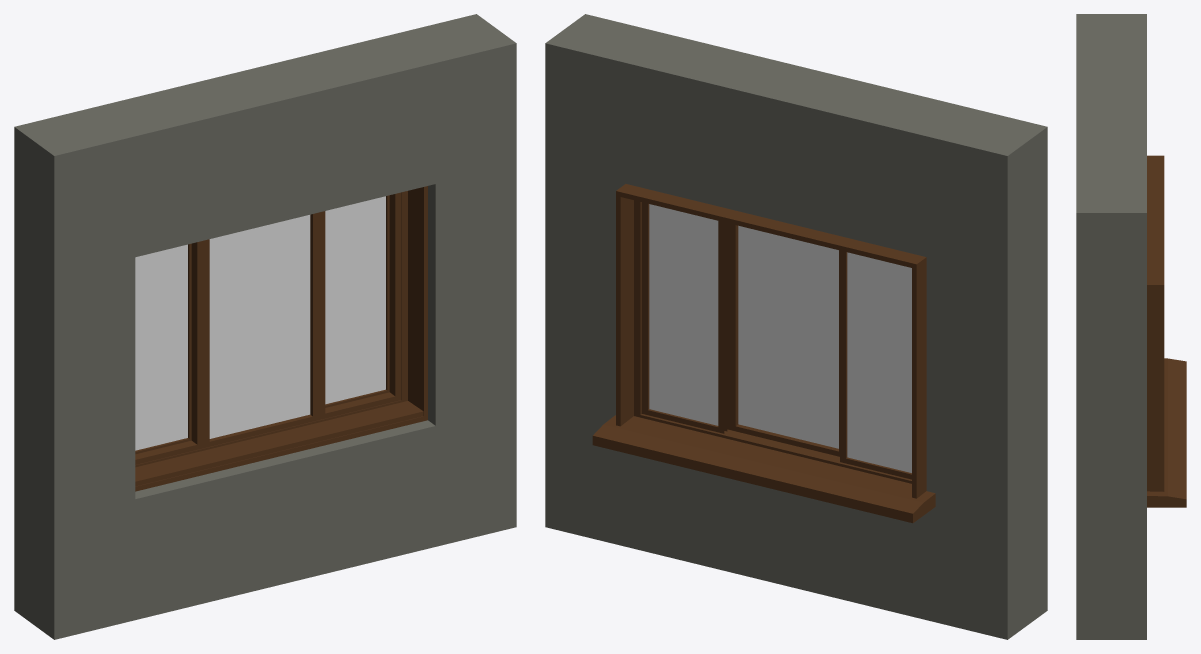
File: Double Window.fbx
3 renders of one model, left to right at view 1: azimuth 30°, elevation 25°; view 2: azimuth 150°, elevation 25°; view 3: azimuth 270°, elevation 25°, orthographic. The views are drawn at different scales.
Parts seen in each view (by area): view 1: Cube.016; view 2: Cube.016; view 3: Cube.016.
Boxes of the visible parts, x1,y1,x2,y2 form: Cube.016: (14,14,516,639); Cube.016: (545,14,1047,639); Cube.016: (1076,14,1186,639).
Size of the model in its own units: 400 by 400 by 93.95.
